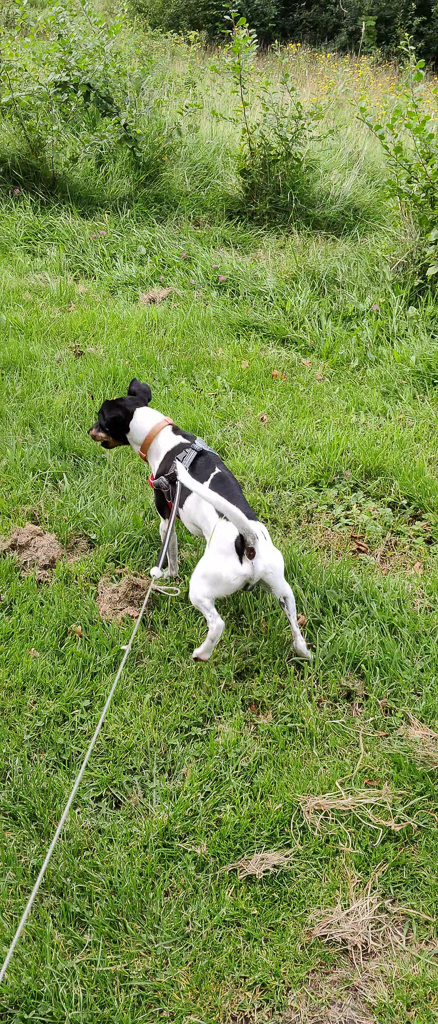Dog: (75, 375, 329, 676)
